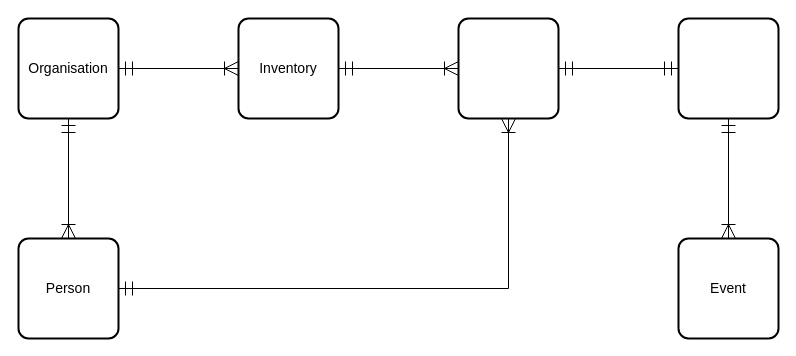
This 796x356 diagram has some shape labels left out. The centre of each missing label's shape, as x and y in pixels:
"Item" belongs at [508,68].
"Lifetime" belongs at [728,68].
